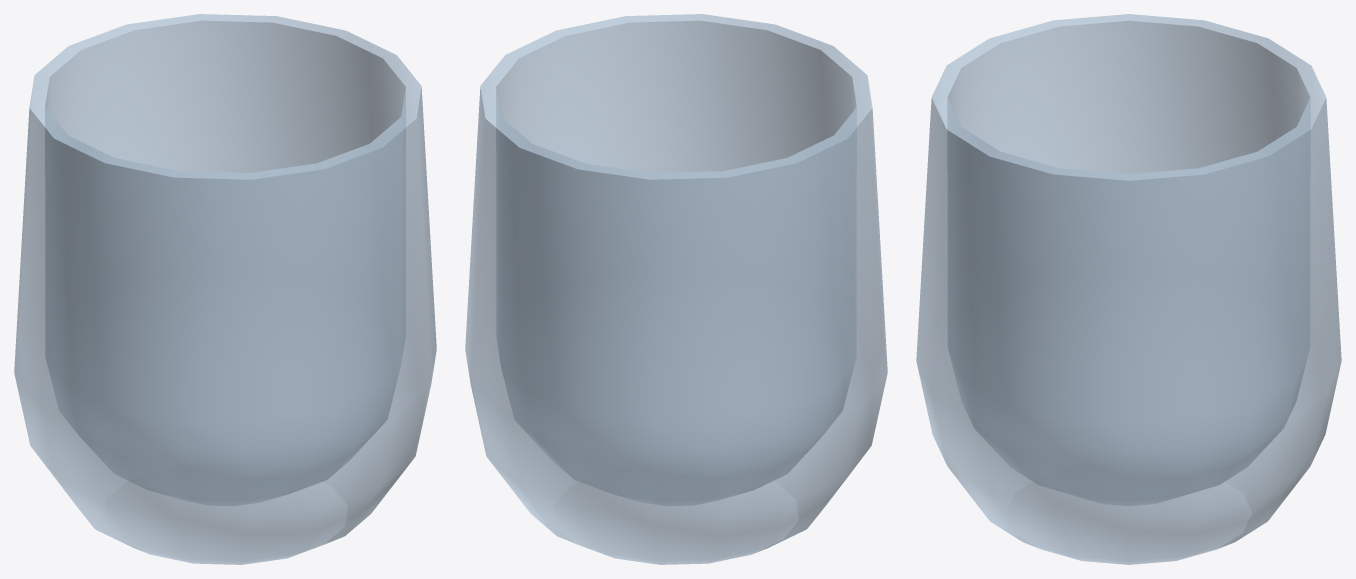
Rendered from Glass_A.FBX.
3 renders of one model, left to right at view 1: azimuth 30°, elevation 25°; view 2: azimuth 150°, elevation 25°; view 3: azimuth 270°, elevation 25°, orthographic.
Visible parts, largest first — view 1: Glass_A; view 2: Glass_A; view 3: Glass_A.
Boxes of the visible parts, <box> form: Glass_A: <box>14,14,436,564</box>; Glass_A: <box>465,14,887,564</box>; Glass_A: <box>916,14,1341,564</box>.
Bounding box in the file's own units: 33.94 × 36.57 × 33.94.
